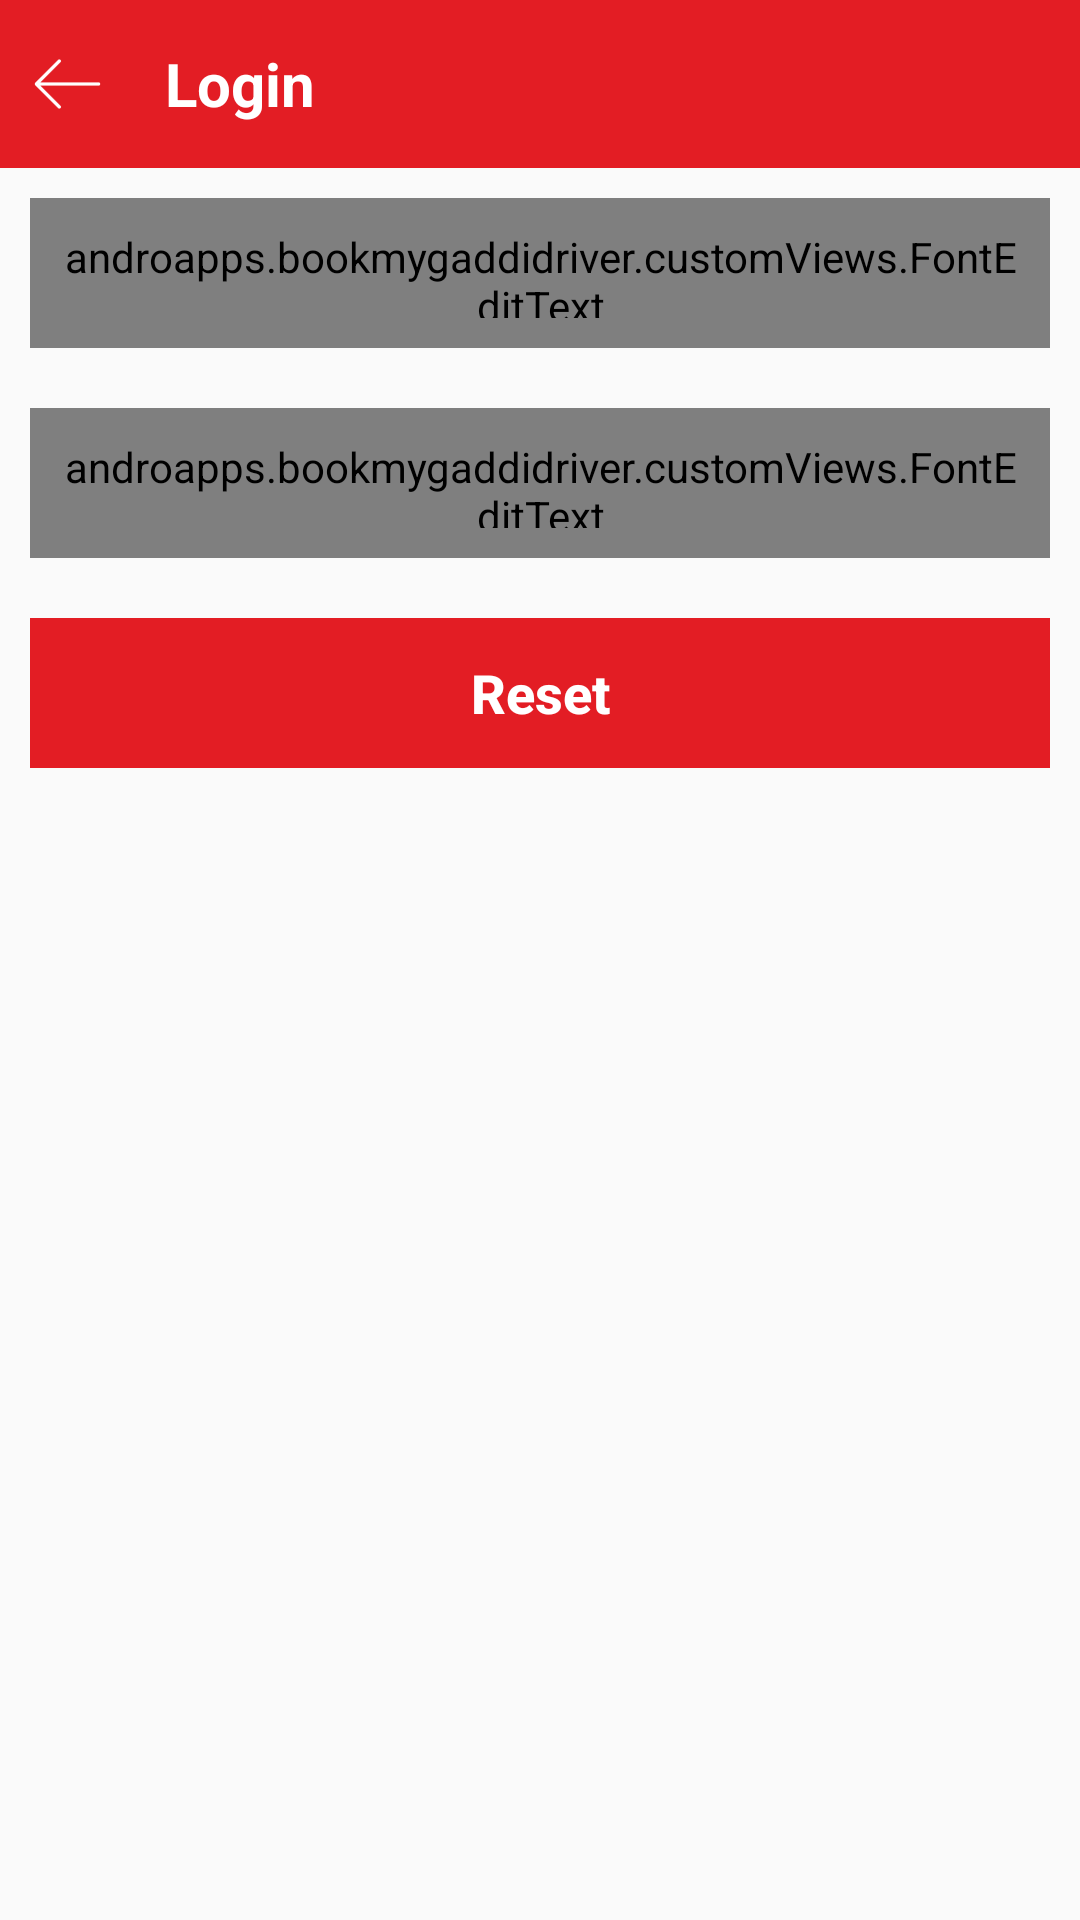

Icon click points for this 1080x1920 phone screenshot, format point (x, y):
back arrow: point (67, 84)
